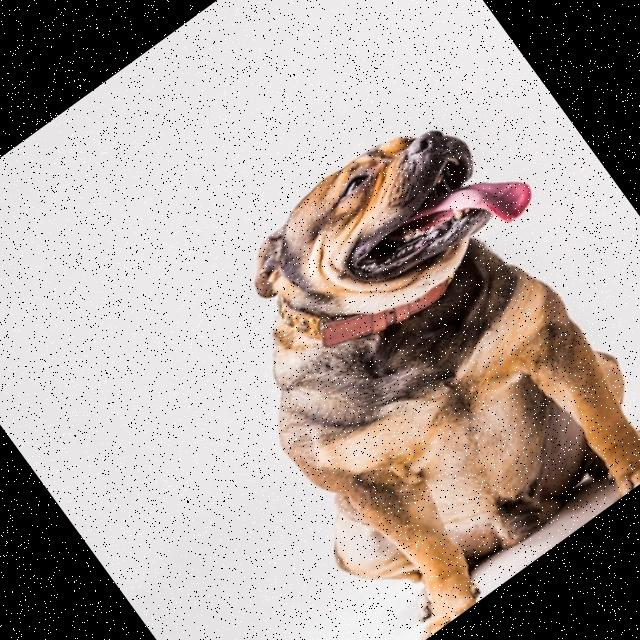Dog: (148, 83, 640, 640)
